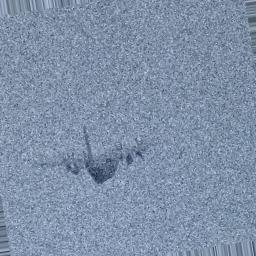Airplane: (41, 126, 154, 186)
